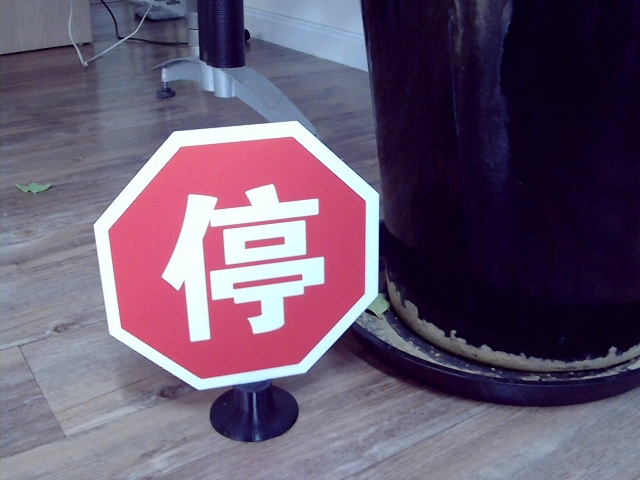stop: (161, 186, 325, 335)
